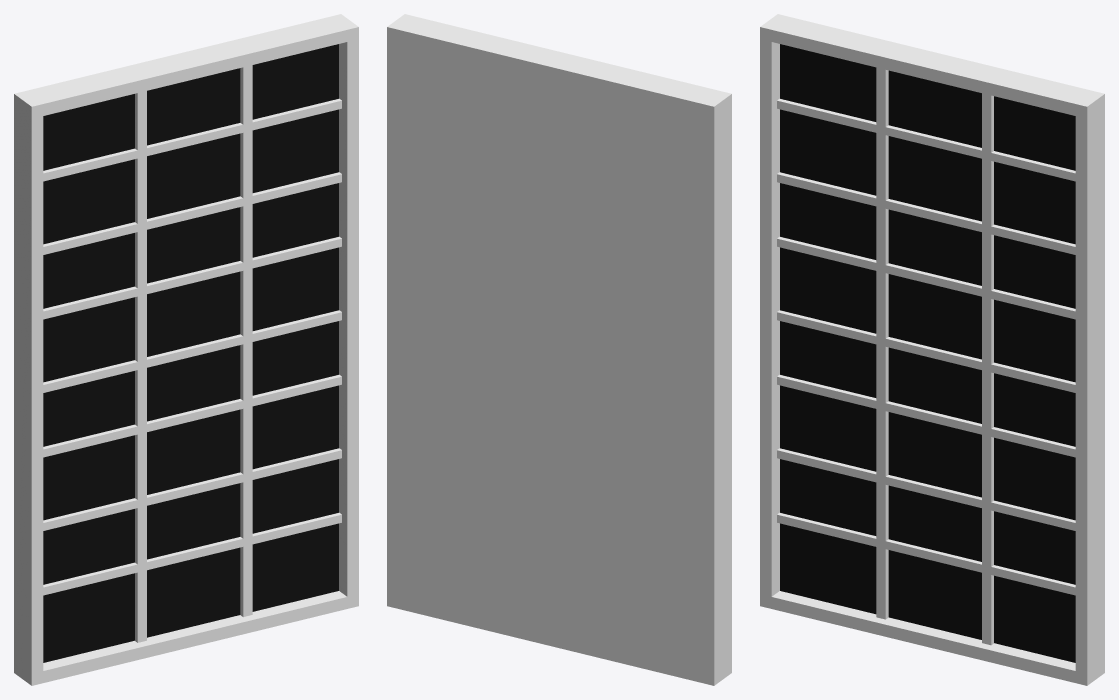
The model's file is SM_solarpane.fbx.
3 views of the same model, side by side, from view 1: azimuth 30°, elevation 25°; view 2: azimuth 150°, elevation 25°; view 3: azimuth 330°, elevation 25° (orthographic).
Parts seen in each view (by area): view 1: Box05711; view 2: Box05711; view 3: Box05711.
Part boxes in pixels (x1,y1,x2,y2): Box05711: [14, 14, 358, 685]; Box05711: [387, 14, 731, 685]; Box05711: [760, 14, 1104, 685].
Bounding box in the file's own units: 61.18 × 104 × 5.76.
